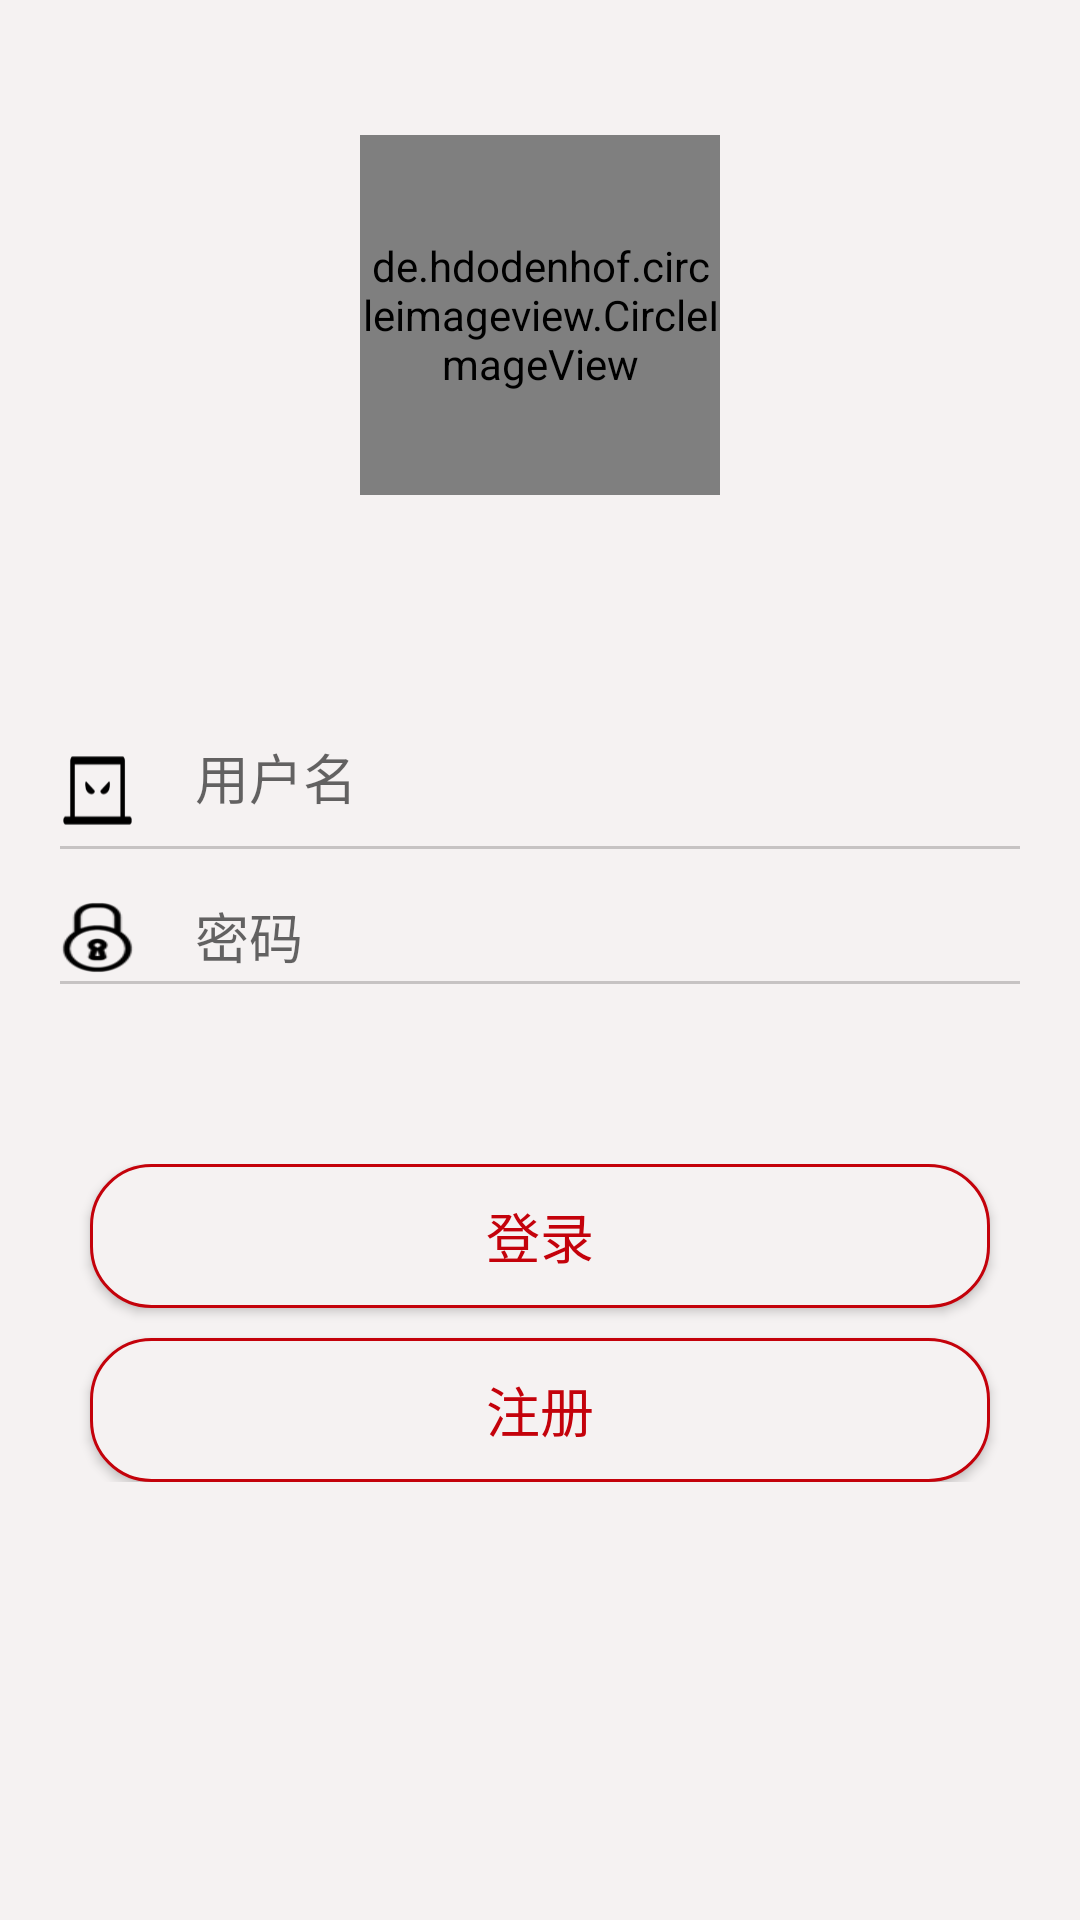

Where icons sit on this 1080w x 1920h app screen, as region(x1, y1, x2, y2):
password: region(63, 903, 132, 972)
user: region(63, 756, 132, 825)
